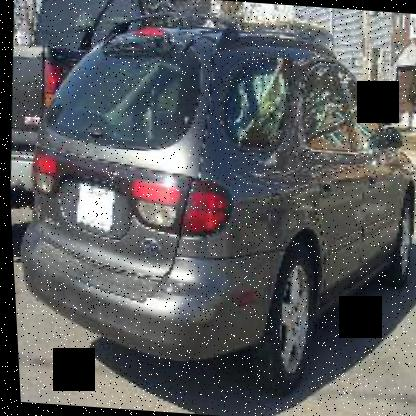not_emergency: (13, 10, 415, 406)
